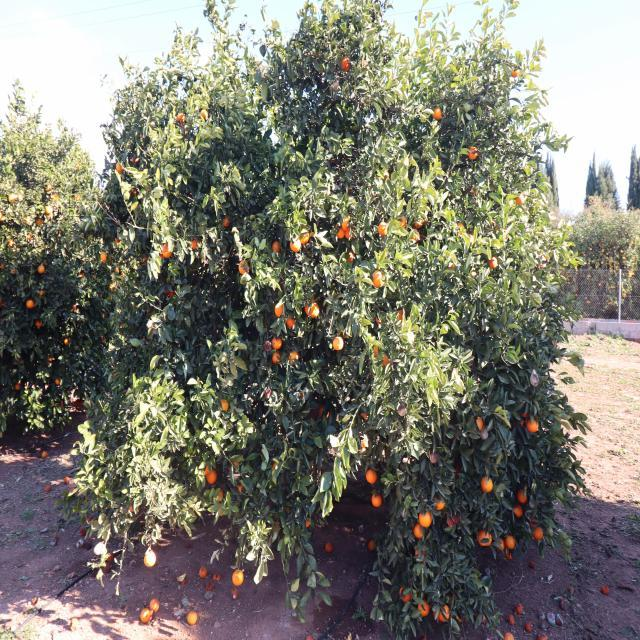Jeruk Sudah Matang: (480, 476, 493, 494), (372, 270, 384, 288), (526, 418, 540, 433), (144, 551, 156, 568), (438, 604, 449, 622), (232, 570, 244, 586), (418, 599, 429, 616), (366, 469, 378, 484), (399, 587, 411, 602), (472, 416, 483, 432), (419, 512, 430, 528), (332, 336, 343, 351), (371, 493, 382, 508), (309, 304, 320, 318), (290, 238, 301, 252), (478, 531, 489, 545), (504, 536, 516, 548), (378, 222, 388, 236), (238, 260, 248, 274), (340, 57, 350, 71), (534, 526, 544, 540), (162, 244, 172, 258), (335, 224, 345, 237), (219, 399, 229, 412), (380, 354, 390, 367), (518, 490, 528, 503), (434, 498, 444, 511), (413, 524, 422, 538), (342, 218, 352, 230), (300, 228, 308, 243), (432, 108, 442, 120), (513, 505, 523, 517), (208, 469, 216, 484), (191, 236, 201, 248), (115, 162, 125, 174), (272, 240, 280, 254), (469, 146, 477, 160), (515, 196, 525, 207), (275, 304, 284, 316), (398, 215, 406, 228), (456, 222, 464, 235), (272, 338, 282, 348), (413, 218, 423, 228), (286, 317, 295, 328), (490, 256, 498, 268), (496, 538, 504, 550), (504, 548, 512, 560), (200, 108, 208, 120), (288, 352, 298, 361), (272, 352, 280, 363), (411, 229, 418, 241), (397, 310, 405, 320), (512, 68, 520, 78), (222, 217, 230, 227), (176, 114, 185, 122), (130, 156, 138, 165), (346, 229, 353, 239), (374, 345, 379, 358), (376, 316, 384, 324), (26, 300, 34, 308), (38, 266, 46, 274), (36, 218, 44, 226), (488, 534, 493, 546), (100, 252, 106, 262), (468, 234, 473, 244), (9, 194, 16, 201), (46, 206, 52, 214), (521, 412, 528, 418)
